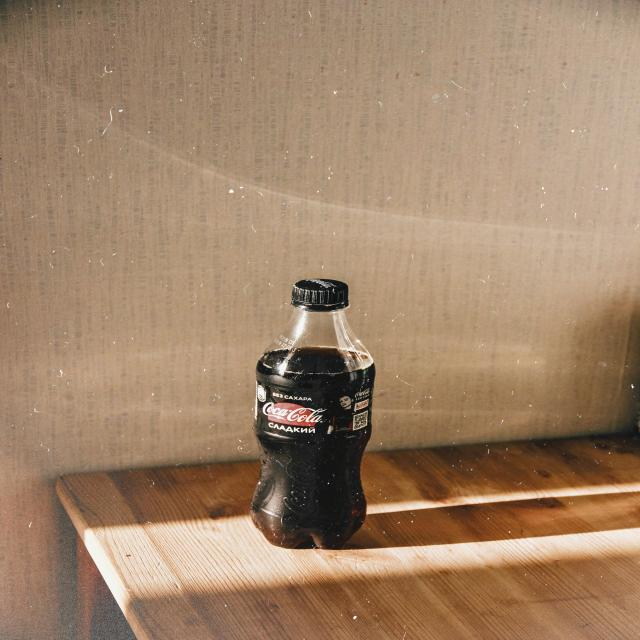bottle: (248, 271, 374, 549)
